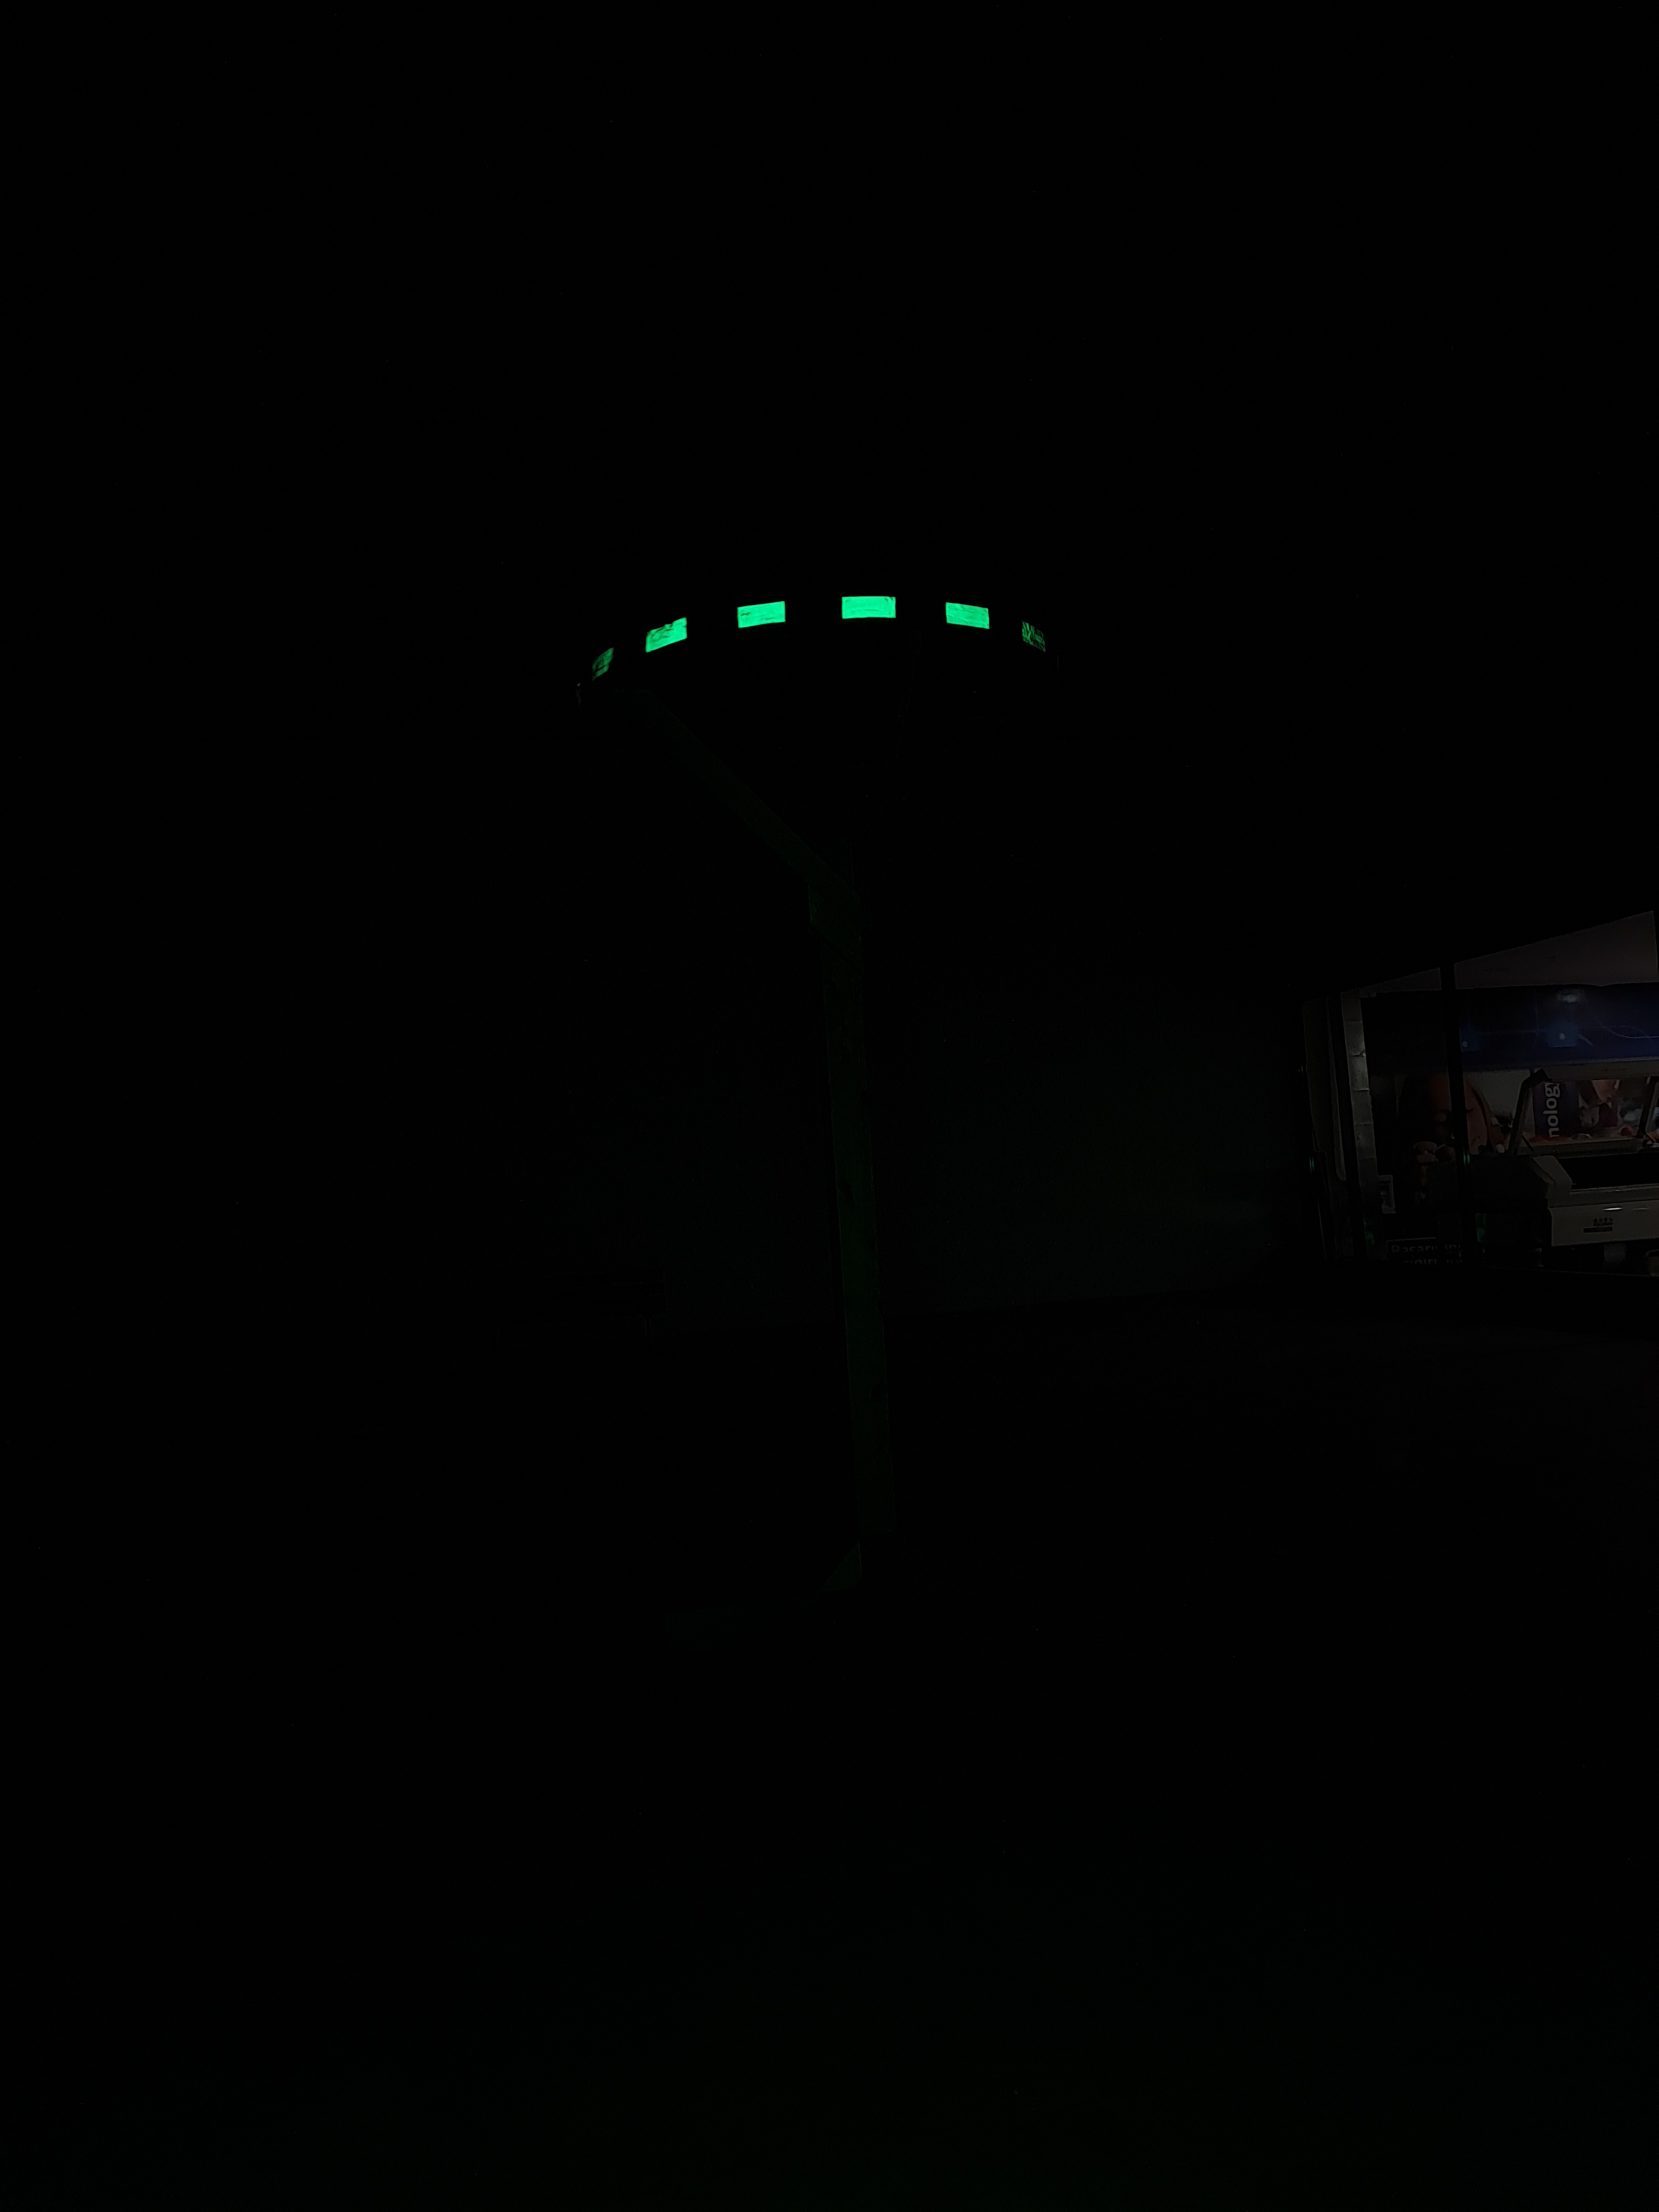hoop: (566, 571, 1060, 685)
